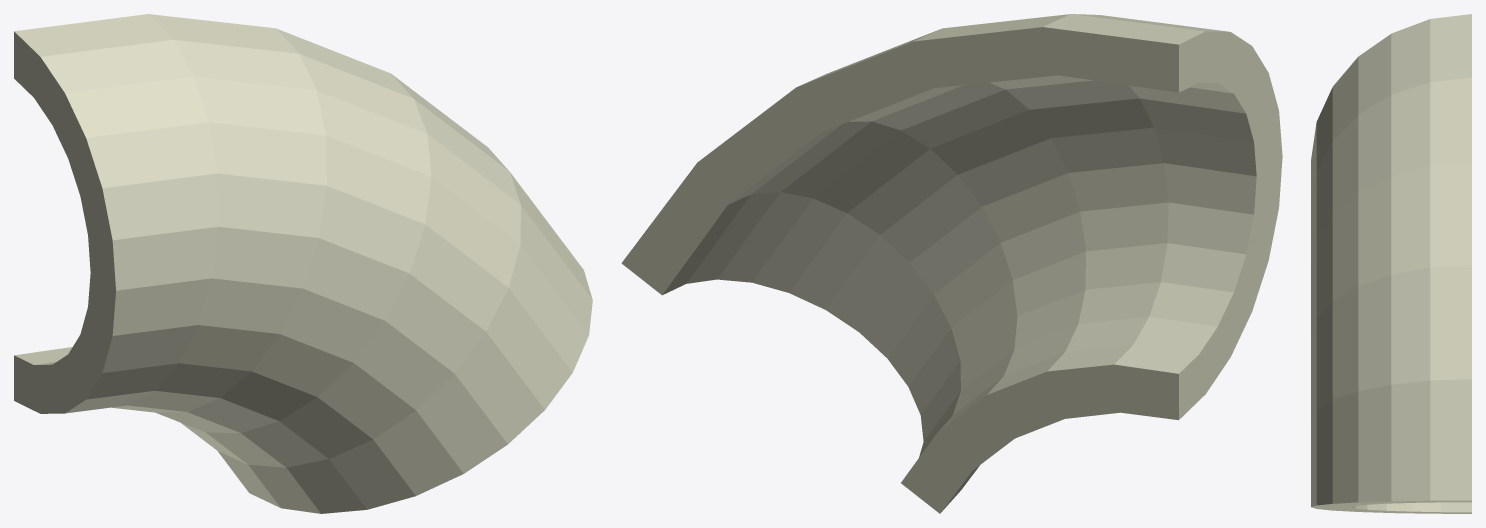
Rendered from section_119.obj.
3 renders of one model, left to right at view 1: azimuth 30°, elevation 25°; view 2: azimuth 150°, elevation 25°; view 3: azimuth 270°, elevation 25°, orthographic. The views are drawn at different scales.
Bounding box in the file's own units: 12.43 × 11.24 × 4.
